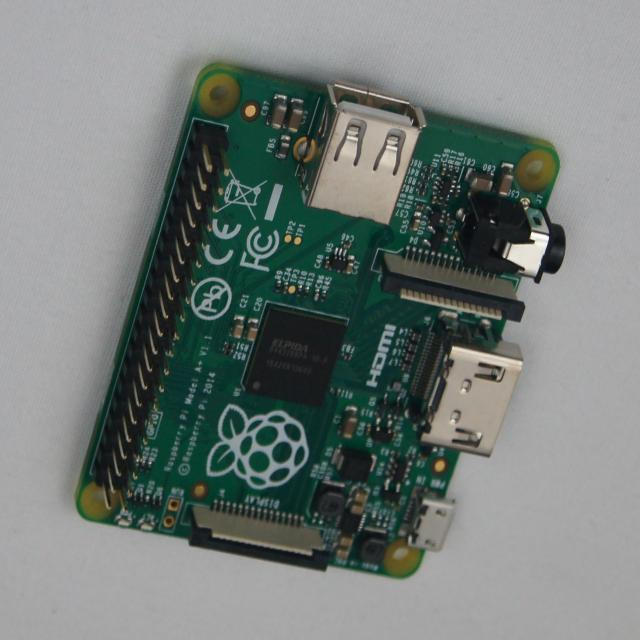Raspberry-Pi-1-A-: (77, 63, 567, 578)
